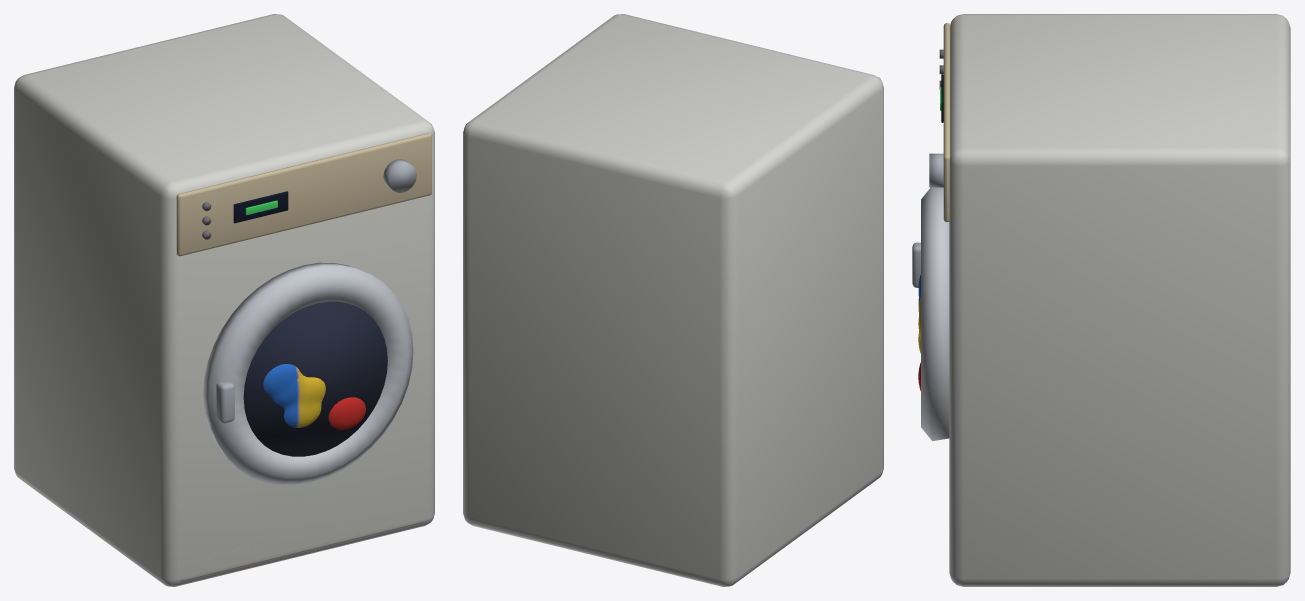
File: dryer.glb
3 renders of one model, left to right at view 1: azimuth 30°, elevation 25°; view 2: azimuth 150°, elevation 25°; view 3: azimuth 270°, elevation 25°, orthographic. The views are drawn at different scales.
Visible parts, largest first — view 1: dryer; view 2: dryer; view 3: dryer.
Part boxes in pixels (bbox=[...]): dryer: bbox=[14, 14, 434, 586]; dryer: bbox=[463, 14, 883, 586]; dryer: bbox=[912, 14, 1290, 586].
Size of the model in its own units: 0.6 by 0.85 by 0.665.
